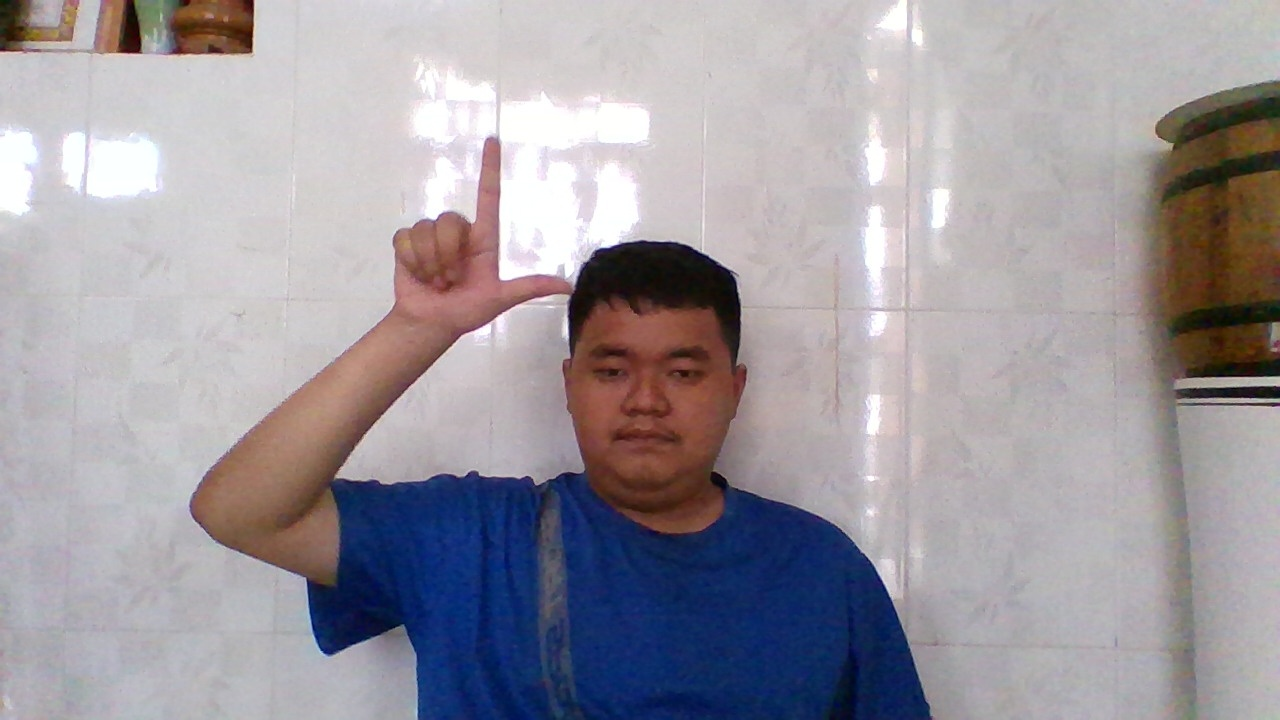L: (384, 125, 579, 338)
